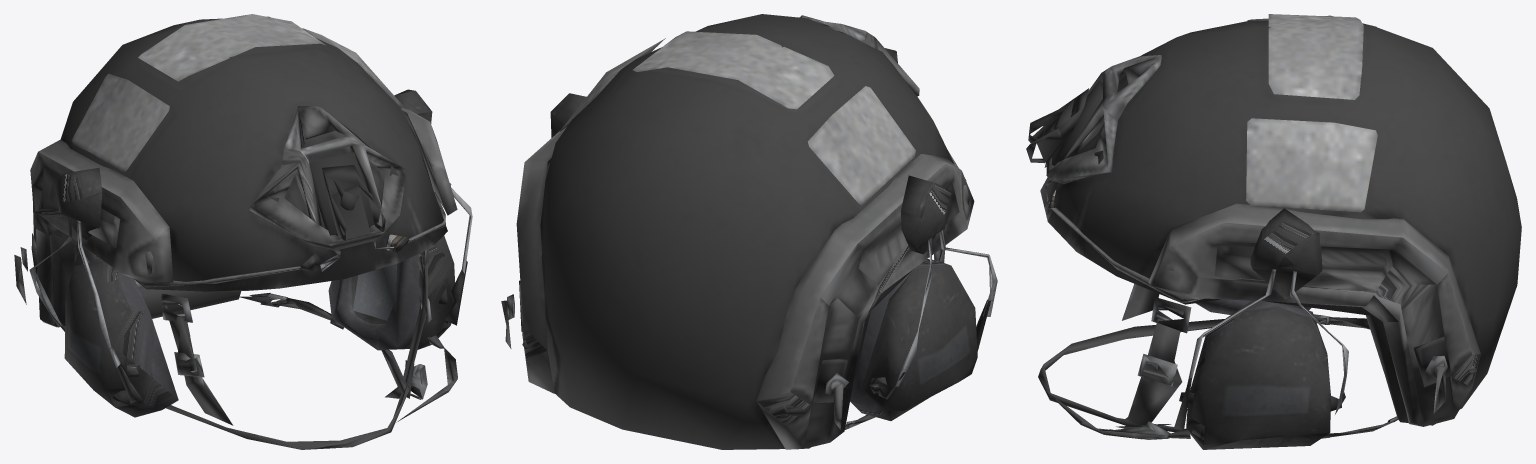
File: GunRunnersHelmet_Ground.fbx
3 renders of one model, left to right at view 1: azimuth 30°, elevation 25°; view 2: azimuth 150°, elevation 25°; view 3: azimuth 270°, elevation 25°, orthographic. The views are drawn at different scales.
Parts seen in each view (by area): view 1: GunRunner Helmet; view 2: GunRunner Helmet; view 3: GunRunner Helmet.
Part boxes in pixels (x1,y1,x2,y2): GunRunner Helmet: (14,14,472,449); GunRunner Helmet: (501,14,997,449); GunRunner Helmet: (1026,14,1521,449).
Size of the model in its own units: 0.1587 by 0.1306 by 0.1677.
